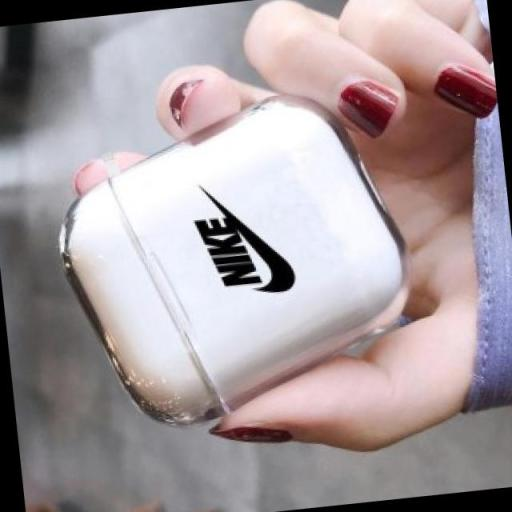Nike: (232, 208, 298, 294), (194, 214, 262, 289)
